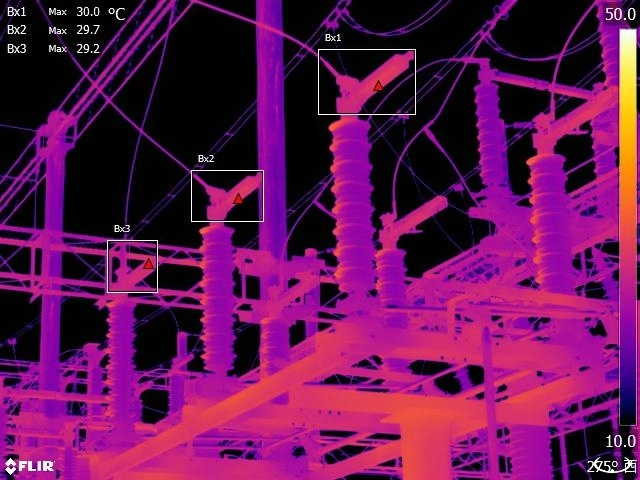clamp: (419, 118, 443, 148)
post insulator: (330, 113, 384, 298), (526, 148, 576, 297), (197, 221, 240, 375), (98, 291, 136, 425), (378, 246, 417, 370), (254, 315, 296, 410), (473, 82, 508, 189)
switch: (321, 38, 423, 120), (528, 78, 618, 153), (469, 55, 601, 104), (372, 186, 454, 252), (197, 165, 270, 230), (100, 251, 163, 301)
